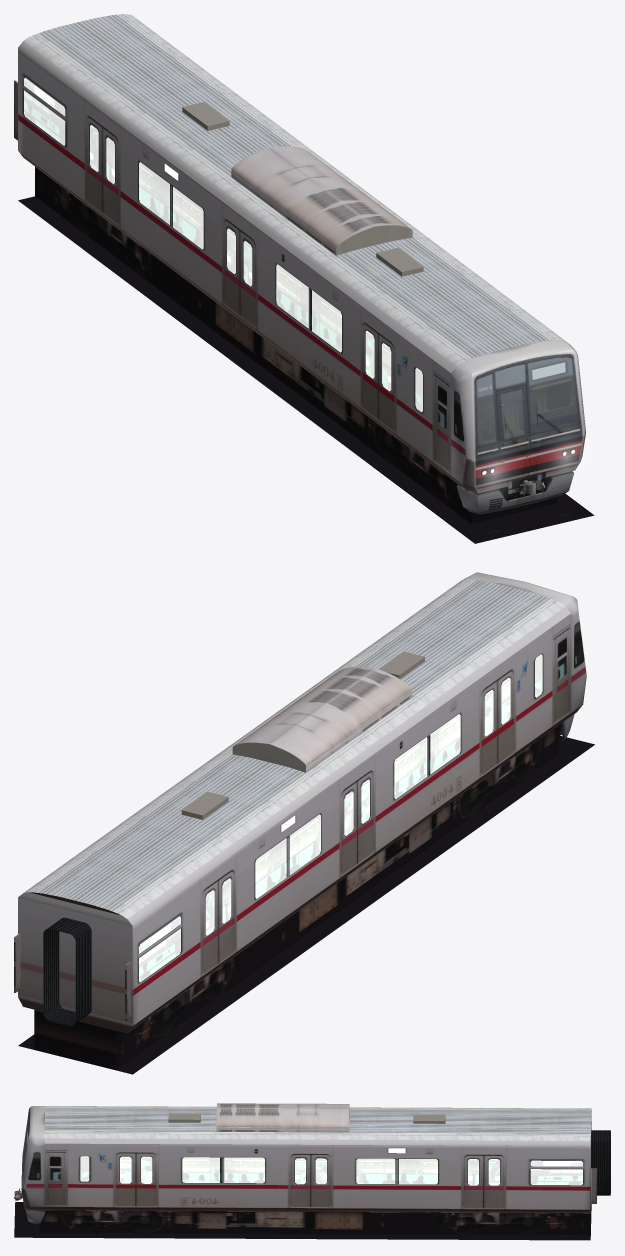
Rendered from mei_4000.gltf.
The picture shows the model from 3 angles, top to bottom: view 1: azimuth 30°, elevation 25°; view 2: azimuth 150°, elevation 25°; view 3: azimuth 270°, elevation 25°; orthographic projection. The views are drawn at different scales.
Visible parts, largest first — view 1: side(m), front, under(m), ac(m), shadow, skirt, f_flare, coupler; view 2: side(m), under(m), ac(m), shadow, hood(m), front; view 3: side(m), under(m), ac(m), shadow, front, hood(m), skirt.
Boxes of the visible parts, x1,y1,x2,y2 form: side(m): [18, 14, 564, 482]; front: [451, 339, 585, 493]; under(m): [35, 167, 557, 523]; ac(m): [182, 102, 423, 276]; shadow: [18, 196, 594, 543]; skirt: [456, 471, 574, 514]; f_flare: [478, 439, 583, 491]; coupler: [499, 472, 550, 500]; side(m): [18, 579, 571, 1032]; under(m): [34, 723, 561, 1070]; ac(m): [181, 651, 424, 819]; shadow: [18, 736, 594, 1074]; hood(m): [14, 917, 131, 1026]; front: [462, 572, 586, 719]; side(m): [44, 1106, 591, 1213]; under(m): [39, 1204, 591, 1235]; ac(m): [168, 1103, 445, 1132]; shadow: [14, 1202, 590, 1240]; front: [21, 1106, 45, 1210]; hood(m): [590, 1130, 610, 1203]; skirt: [25, 1209, 45, 1224].
Size of the model in its own units: 36.17 by 40.12 by 192.
21 materials, 20 textured.
